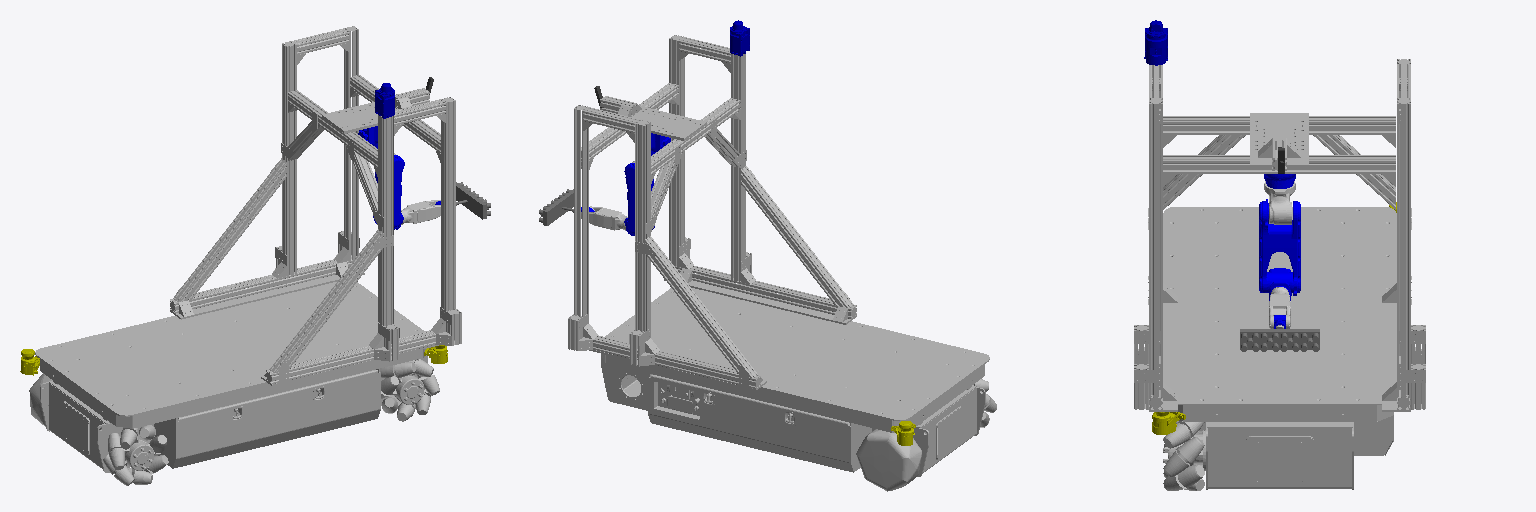
URDF robot description (euler):
<?xml version="1.0" ?>
<!-- =================================================================================== -->
<!-- |    This document was autogenerated by xacro from euler.xacro                    | -->
<!-- |    EDITING THIS FILE BY HAND IS NOT RECOMMENDED                                 | -->
<!-- =================================================================================== -->
<robot name="euler" xmlns:xacro="http://ros.org/wiki/xacro">
  <link name="vetex_base_link">
    <visual>
      <geometry>
        <mesh filename="package://vetex_support/meshes/visual/base_link.stl"/>
      </geometry>
      <material name="euler_gray">
        <color rgba="0.75294 0.75294 0.75294 1"/>
      </material>
    </visual>
    <collision>
      <geometry>
        <mesh filename="package://vetex_support/meshes/collision/base_link.stl"/>
      </geometry>
    </collision>
  </link>
  <link name="vetex_base_footprint"/>
  <link name="vetex_left_front_wheel">
    <visual>
      <geometry>
        <mesh filename="package://vetex_support/meshes/visual/left_front_wheel.stl"/>
      </geometry>
      <material name="euler_gray"/>
    </visual>
    <collision>
      <geometry>
        <mesh filename="package://vetex_support/meshes/collision/left_front_wheel.stl"/>
      </geometry>
    </collision>
  </link>
  <link name="vetex_left_rear_wheel">
    <visual>
      <geometry>
        <mesh filename="package://vetex_support/meshes/visual/left_rear_wheel.stl"/>
      </geometry>
      <material name="euler_gray"/>
    </visual>
    <collision>
      <geometry>
        <mesh filename="package://vetex_support/meshes/collision/left_rear_wheel.stl"/>
      </geometry>
    </collision>
  </link>
  <link name="vetex_right_rear_wheel">
    <visual>
      <origin rpy="3.1415 0 0"/>
      <geometry>
        <mesh filename="package://vetex_support/meshes/visual/right_rear_wheel.stl"/>
      </geometry>
      <material name="euler_gray"/>
    </visual>
    <collision>
      <origin rpy="3.1415 0 0"/>
      <geometry>
        <mesh filename="package://vetex_support/meshes/collision/right_rear_wheel.stl"/>
      </geometry>
    </collision>
  </link>
  <link name="vetex_right_front_wheel">
    <visual>
      <origin rpy="3.1415 0 0"/>
      <geometry>
        <mesh filename="package://vetex_support/meshes/visual/right_front_wheel.stl"/>
      </geometry>
      <material name="euler_gray"/>
    </visual>
    <collision>
      <origin rpy="3.1415 0 0"/>
      <geometry>
        <mesh filename="package://vetex_support/meshes/collision/right_front_wheel.stl"/>
      </geometry>
    </collision>
  </link>
  <joint name="vetex_to_footprint" type="fixed">
    <origin xyz="-1.0439 0 0"/>
    <parent link="vetex_base_link"/>
    <child link="vetex_base_footprint"/>
  </joint>
  <joint name="vetex_left_front_wheel" type="continuous">
    <origin rpy="0 1 0" xyz="0 0.58668 0.21577"/>
    <parent link="vetex_base_link"/>
    <child link="vetex_left_front_wheel"/>
    <axis xyz="0 1 0"/>
    <limit effort="0" velocity="3"/>
  </joint>
  <joint name="vetex_left_rear_wheel" type="continuous">
    <origin rpy="0 1 0" xyz="-2.0878 0.58642 0.21577"/>
    <parent link="vetex_base_link"/>
    <child link="vetex_left_rear_wheel"/>
    <axis xyz="0 1 0"/>
    <limit effort="0" velocity="3"/>
  </joint>
  <joint name="vetex_right_rear_wheel" type="continuous">
    <origin rpy="0 1 0" xyz="-2.0878 -0.58668 0.21577"/>
    <parent link="vetex_base_link"/>
    <child link="vetex_right_rear_wheel"/>
    <axis xyz="0 1 0"/>
    <limit effort="0" velocity="3"/>
  </joint>
  <joint name="vetex_right_front_wheel" type="continuous">
    <origin rpy="0 0 0" xyz="0 -0.58642 0.21577"/>
    <parent link="vetex_base_link"/>
    <child link="vetex_right_front_wheel"/>
    <axis xyz="0 1 0"/>
    <limit effort="0" velocity="3"/>
  </joint>
  <link name="motoman_base_link">
    <visual>
      <origin rpy="0 0 0"/>
      <geometry>
        <mesh filename="package://motoman_mh5lf_support/meshes/mh5lf/visual/base_link.stl"/>
      </geometry>
      <material name="blue">
        <color rgba="0 0 1 1"/>
      </material>
    </visual>
    <collision>
      <origin rpy="0 0 0"/>
      <geometry>
        <mesh filename="package://motoman_mh5lf_support/meshes/mh5lf/collision/base_link.stl"/>
      </geometry>
      <material name="yellow">
        <color rgba="0 1 1 1"/>
      </material>
    </collision>
  </link>
  <link name="motoman_link_s">
    <visual>
      <geometry>
        <mesh filename="package://motoman_mh5lf_support/meshes/mh5lf/visual/link_s.stl"/>
      </geometry>
      <material name="silver">
        <color rgba="0.8 0.8 0.8 1"/>
      </material>
    </visual>
    <collision>
      <geometry>
        <mesh filename="package://motoman_mh5lf_support/meshes/mh5lf/collision/link_s.stl"/>
      </geometry>
      <material name="yellow"/>
    </collision>
  </link>
  <link name="motoman_link_l">
    <visual>
      <geometry>
        <mesh filename="package://motoman_mh5lf_support/meshes/mh5lf/visual/link_l.stl"/>
      </geometry>
      <material name="blue"/>
    </visual>
    <collision>
      <geometry>
        <mesh filename="package://motoman_mh5lf_support/meshes/mh5lf/collision/link_l.stl"/>
      </geometry>
      <material name="yellow"/>
    </collision>
  </link>
  <link name="motoman_link_u">
    <visual>
      <geometry>
        <mesh filename="package://motoman_mh5lf_support/meshes/mh5lf/visual/link_u.stl"/>
      </geometry>
      <material name="blue"/>
    </visual>
    <collision>
      <geometry>
        <mesh filename="package://motoman_mh5lf_support/meshes/mh5lf/collision/link_u.stl"/>
      </geometry>
      <material name="yellow"/>
    </collision>
  </link>
  <link name="motoman_link_r">
    <visual>
      <geometry>
        <mesh filename="package://motoman_mh5lf_support/meshes/mh5lf/visual/link_r.stl"/>
      </geometry>
      <material name="silver"/>
    </visual>
    <collision>
      <geometry>
        <mesh filename="package://motoman_mh5lf_support/meshes/mh5lf/collision/link_r.stl"/>
      </geometry>
      <material name="yellow"/>
    </collision>
  </link>
  <link name="motoman_link_b">
    <visual>
      <geometry>
        <mesh filename="package://motoman_mh5lf_support/meshes/mh5lf/visual/link_b.stl"/>
      </geometry>
      <material name="blue"/>
    </visual>
    <collision>
      <geometry>
        <mesh filename="package://motoman_mh5lf_support/meshes/mh5lf/collision/link_b.stl"/>
      </geometry>
      <material name="yellow"/>
    </collision>
  </link>
  <link name="motoman_link_t">
    <visual>
      <geometry>
        <mesh filename="package://motoman_mh5lf_support/meshes/mh5lf/visual/link_t.stl"/>
      </geometry>
      <material name="silver"/>
    </visual>
    <collision>
      <geometry>
        <mesh filename="package://motoman_mh5lf_support/meshes/mh5lf/collision/link_t.stl"/>
      </geometry>
      <material name="yellow"/>
    </collision>
  </link>
  <joint name="motoman_joint_s" type="revolute">
    <parent link="motoman_base_link"/>
    <child link="motoman_link_s"/>
    <origin rpy="0 0 0" xyz="0 0 0"/>
    <axis xyz="0 0 1"/>
    <limit effort="100" lower="-2.96697222222222" upper="2.96697222222222" velocity="4.71225"/>
  </joint>
  <joint name="motoman_joint_l" type="revolute">
    <parent link="motoman_link_s"/>
    <child link="motoman_link_l"/>
    <origin rpy="0 0 0" xyz="0.088 0 0.36"/>
    <axis xyz="0 1 0"/>
    <limit effort="100" lower="-1.13443055555556" upper="2.61791666666667" velocity="4.88677777777778"/>
  </joint>
  <joint name="motoman_joint_u" type="revolute">
    <parent link="motoman_link_l"/>
    <child link="motoman_link_u"/>
    <origin rpy="0 0 0" xyz="0 0 0.4"/>
    <axis xyz="0 -1 0"/>
    <limit effort="100" lower="-2.40848333333333" upper="4.45045833333333" velocity="5.23583333333333"/>
  </joint>
  <joint name="motoman_joint_r" type="revolute">
    <parent link="motoman_link_u"/>
    <child link="motoman_link_r"/>
    <origin rpy="0 0 0" xyz="0 0 0.04"/>
    <axis xyz="-1 0 0"/>
    <limit effort="100" lower="-3.31602777777778" upper="3.31602777777778" velocity="7.85375"/>
  </joint>
  <joint name="motoman_joint_b" type="revolute">
    <parent link="motoman_link_r"/>
    <child link="motoman_link_b"/>
    <origin rpy="0 0 0" xyz="0.404 0 0"/>
    <axis xyz="0 -1 0"/>
    <limit effort="100" lower="-2.356125" upper="2.356125" velocity="7.85375"/>
  </joint>
  <joint name="motoman_joint_t" type="revolute">
    <parent link="motoman_link_b"/>
    <child link="motoman_link_t"/>
    <origin rpy="0 0 0" xyz="0 0 0"/>
    <axis xyz="-1 0 0"/>
    <limit effort="100" lower="-6.283" upper="6.283" velocity="12.566"/>
  </joint>
  <property name="M_PI" value="3.14159"/>
  <link name="_bodycenter">
    <visual>
      <origin rpy="0 0 0" xyz="0 0 0 "/>
      <geometry>
        <mesh filename="package://euler_support/meshes/visual/asus_sensor.stl"/>
      </geometry>
      <material name="lt_black">
        <color rgba="0.3 0.3 0.3 1"/>
      </material>
    </visual>
    <collision>
      <origin rpy="0 0 0" xyz="0.0 0.0 0.0"/>
      <geometry>
        <box size="0.0730 0.2760 0.0720"/>
      </geometry>
    </collision>
  </link>
  <joint name="_base-bodycenter-prism-x" type="fixed">
    <origin rpy="1.5708 1.8849 0" xyz="0.461 0 2.103"/>
    <parent link="base_link"/>
    <child link="_bodycenter"/>
  </joint>
  <joint name="_depth_joint" type="fixed">
    <origin rpy="0 0 0" xyz="0.049 0 0"/>
    <parent link="_bodycenter"/>
    <child link="_depth_frame"/>
  </joint>
  <link name="_depth_frame"/>
  <joint name="_rgb_joint" type="fixed">
    <origin rpy="0 0 0" xyz="0.022 0 0"/>
    <parent link="_bodycenter"/>
    <child link="_rgb_frame"/>
  </joint>
  <link name="_rgb_frame"/>
  <material name="eef_color">
    <color rgba="0.5 0.5 0.5 1"/>
  </material>
  <link name="eef_base"/>
  <link name="eef_body">
    <visual>
      <origin rpy="0 0 0" xyz="0 0 0"/>
      <geometry>
        <mesh filename="package://euler_support/meshes/visual/eef_vacuum.stl"/>
      </geometry>
      <material name="eef_color"/>
    </visual>
    <collision>
      <origin rpy="0 0 0" xyz="0 0 0"/>
      <geometry>
        <mesh filename="package://euler_support/meshes/collision/eef_vacuum.stl"/>
      </geometry>
      <material name="eef_color"/>
    </collision>
  </link>
  <link name="tcp"/>
  <joint name="eef_base_to_eef_body" type="fixed">
    <parent link="eef_base"/>
    <child link="eef_body"/>
    <origin rpy="0 0 1.57" xyz="0 0 0"/>
  </joint>
  <joint name="eef_base_to_tcp" type="fixed">
    <parent link="eef_base"/>
    <child link="tcp"/>
    <origin rpy="0 0 0" xyz="0 0 0.17"/>
  </joint>
  <link name="base_link"> </link>
  <link name="localization_frame"/>
  <link name="frame_left">
    <visual>
      <origin rpy="0 0 0" xyz="0 0 0"/>
      <geometry>
        <mesh filename="package://euler_support/meshes/visual/frame_left.stl"/>
      </geometry>
      <material name="">
        <color rgba="0.752941176470588 0.752941176470588 0.752941176470588 1"/>
      </material>
    </visual>
    <collision>
      <origin rpy="0 0 0" xyz="0 0 0"/>
      <geometry>
        <mesh filename="package://euler_support/meshes/collision/frame_left.stl"/>
      </geometry>
    </collision>
  </link>
  <link name="frame_right">
    <visual>
      <origin rpy="0 0 0" xyz="0 0 0"/>
      <geometry>
        <mesh filename="package://euler_support/meshes/visual/frame_right.stl"/>
      </geometry>
      <material name="">
        <color rgba="0.752941176470588 0.752941176470588 0.752941176470588 1"/>
      </material>
    </visual>
    <collision>
      <origin rpy="0 0 0" xyz="0 0 0"/>
      <geometry>
        <mesh filename="package://euler_support/meshes/collision/frame_right.stl"/>
      </geometry>
    </collision>
  </link>
  <link name="frame_top">
    <visual>
      <origin rpy="0 0 0" xyz="0 0 0"/>
      <geometry>
        <mesh filename="package://euler_support/meshes/visual/frame_top.stl"/>
      </geometry>
      <material name="">
        <color rgba="0.752941176470588 0.752941176470588 0.752941176470588 1"/>
      </material>
    </visual>
    <collision>
      <origin rpy="0 0 0" xyz="0 0 0"/>
      <geometry>
        <mesh filename="package://euler_support/meshes/collision/frame_top.stl"/>
      </geometry>
    </collision>
  </link>
  <link name="sick_nav350">
    <visual>
      <geometry>
        <mesh filename="package://euler_support/meshes/visual/sick_nav350.stl"/>
      </geometry>
      <material name="">
        <color rgba="0 0 0.752941176470588 1"/>
      </material>
    </visual>
    <collision>
      <geometry>
        <mesh filename="package://euler_support/meshes/collision/sick_nav350.stl"/>
      </geometry>
    </collision>
  </link>
  <link name="front_sick_s300">
    <visual>
      <geometry>
        <mesh filename="package://euler_support/meshes/visual/sick_s300_mounting_assy.stl"/>
      </geometry>
      <material name="">
        <color rgba="0.75 0.75 0 1"/>
      </material>
    </visual>
    <collision>
      <geometry>
        <mesh filename="package://euler_support/meshes/collision/sick_s300_mounting_assy.stl"/>
      </geometry>
    </collision>
  </link>
  <link name="rear_sick_s300">
    <visual>
      <geometry>
        <mesh filename="package://euler_support/meshes/visual/sick_s300_mounting_assy.stl"/>
      </geometry>
      <material name="">
        <color rgba="0.75 0.75 0 1"/>
      </material>
    </visual>
    <collision>
      <geometry>
        <mesh filename="package://euler_support/meshes/collision/sick_s300_mounting_assy.stl"/>
      </geometry>
    </collision>
  </link>
  <joint name="frame_left" type="fixed">
    <parent link="base_link"/>
    <child link="frame_left"/>
    <origin rpy="0 0 0" xyz="0 0 0"/>
    <axis xyz="0 0 0"/>
  </joint>
  <joint name="frame_right" type="fixed">
    <parent link="base_link"/>
    <child link="frame_right"/>
    <origin rpy="0 0 0" xyz="0 0 0"/>
    <axis xyz="0 0 0"/>
  </joint>
  <joint name="frame_top" type="fixed">
    <parent link="base_link"/>
    <child link="frame_top"/>
    <origin rpy="0 0 0" xyz="0 0 0"/>
    <axis xyz="0 0 0"/>
  </joint>
  <joint name="to_vetex" type="fixed">
    <parent link="base_link"/>
    <child link="vetex_base_link"/>
    <origin rpy="0 0 0" xyz="0 0 0"/>
    <axis xyz="0 0 0"/>
  </joint>
  <joint name="to_arm" type="fixed">
    <parent link="base_link"/>
    <child link="motoman_base_link"/>
    <origin rpy="3.1415 0 0" xyz="0.067518 0 2.016"/>
    <axis xyz="0 0 0"/>
  </joint>
  <joint name="sick_nav350" type="fixed">
    <parent link="base_link"/>
    <child link="sick_nav350"/>
    <origin rpy="0 0 0" xyz="-0.239 -0.648 2.551"/>
    <axis xyz="0 0 0"/>
  </joint>
  <joint name="base_to_localization" type="fixed">
    <parent link="base_link"/>
    <child link="localization_frame"/>
    <origin rpy="0 0 0" xyz="-0.239 -0.648 0"/>
    <axis xyz="0 0 0"/>
  </joint>
  <joint name="front_sick_s300" type="fixed">
    <parent link="base_link"/>
    <child link="front_sick_s300"/>
    <origin rpy="0 0 -0.75047" xyz="0.193 -0.617 0.532"/>
    <axis xyz="0 0 0"/>
  </joint>
  <joint name="rear_sick_s300" type="fixed">
    <parent link="base_link"/>
    <child link="rear_sick_s300"/>
    <origin rpy="0 0  -3.96178" xyz="-2.280 0.617 0.532"/>
    <axis xyz="0 0 0"/>
  </joint>
  <joint name="motoman_link_t_to_eef_base" type="fixed">
    <parent link="motoman_link_t"/>
    <child link="eef_base"/>
    <origin rpy="0 1.57 0" xyz="0.098 0 0"/>
  </joint>
</robot>

--- Facts derived from the render (not from the file) ---
The picture shows the robot from 3 angles, left to right: view 1: azimuth 30°, elevation 25°; view 2: azimuth 150°, elevation 25°; view 3: azimuth 270°, elevation 25°; orthographic projection.
Robot: euler — 27 links, 26 joints (6 revolute, 4 continuous, 16 fixed); root link base_link; default pose: all joints at 0.
Visible links, largest first — view 1: vetex_base_link, frame_right, frame_left, frame_top, vetex_right_rear_wheel, vetex_right_front_wheel, eef_body, motoman_link_r, sick_nav350, motoman_link_l; view 2: vetex_base_link, frame_left, frame_right, frame_top, vetex_left_rear_wheel, eef_body, motoman_link_r, motoman_link_l, sick_nav350; view 3: vetex_base_link, frame_top, frame_left, frame_right, vetex_right_front_wheel, motoman_link_l, eef_body, sick_nav350, motoman_link_s, motoman_link_r, front_sick_s300, motoman_link_u.
Boxes of the visible links, <box> form: vetex_base_link: <box>35,282,427,472</box>; frame_right: <box>261,97,461,385</box>; frame_left: <box>170,26,364,319</box>; frame_top: <box>287,75,440,224</box>; vetex_right_rear_wheel: <box>103,425,168,485</box>; vetex_right_front_wheel: <box>380,359,439,421</box>; eef_body: <box>456,182,490,219</box>; motoman_link_r: <box>401,200,440,224</box>; sick_nav350: <box>375,83,394,118</box>; motoman_link_l: <box>375,155,404,227</box>; vetex_base_link: <box>601,288,989,476</box>; frame_left: <box>568,105,766,390</box>; frame_right: <box>664,35,856,324</box>; frame_top: <box>581,83,740,231</box>; vetex_left_rear_wheel: <box>856,429,921,491</box>; eef_body: <box>539,189,573,225</box>; motoman_link_r: <box>581,206,627,230</box>; motoman_link_l: <box>624,163,653,235</box>; sick_nav350: <box>730,20,749,56</box>; vetex_base_link: <box>1163,207,1396,489</box>; frame_top: <box>1163,113,1395,209</box>; frame_left: <box>1382,59,1425,411</box>; frame_right: <box>1134,65,1177,411</box>; vetex_right_front_wheel: <box>1163,421,1205,490</box>; motoman_link_l: <box>1259,199,1300,295</box>; eef_body: <box>1240,327,1319,351</box>; sick_nav350: <box>1144,20,1167,65</box>; motoman_link_s: <box>1264,181,1295,224</box>; motoman_link_r: <box>1269,287,1290,328</box>; front_sick_s300: <box>1152,412,1185,434</box>; motoman_link_u: <box>1268,268,1292,300</box>.
Size in the robot's own frame: 3.16 by 1.52 by 2.58 metres.
19 mesh visuals loaded from 19 distinct referenced files (18 binary STL); not drawn: 1 (reference not matched to a file when rendering).
